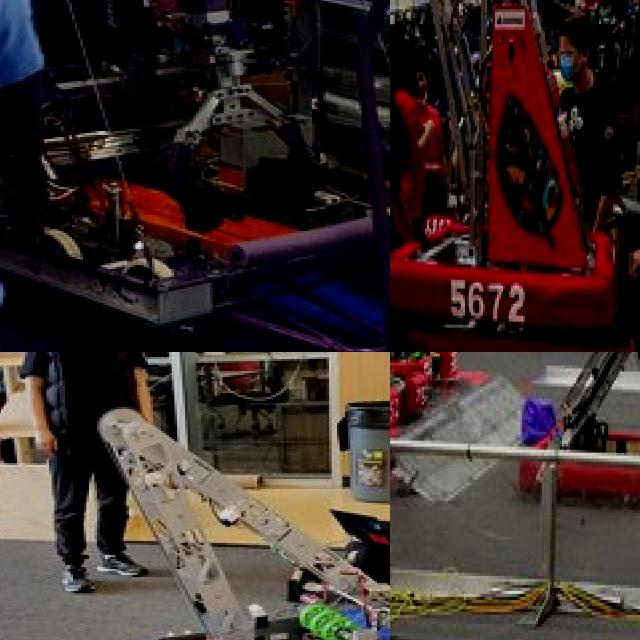FRC-Robots: (0, 0, 390, 328), (0, 369, 390, 640), (390, 0, 627, 345), (546, 352, 640, 493)
